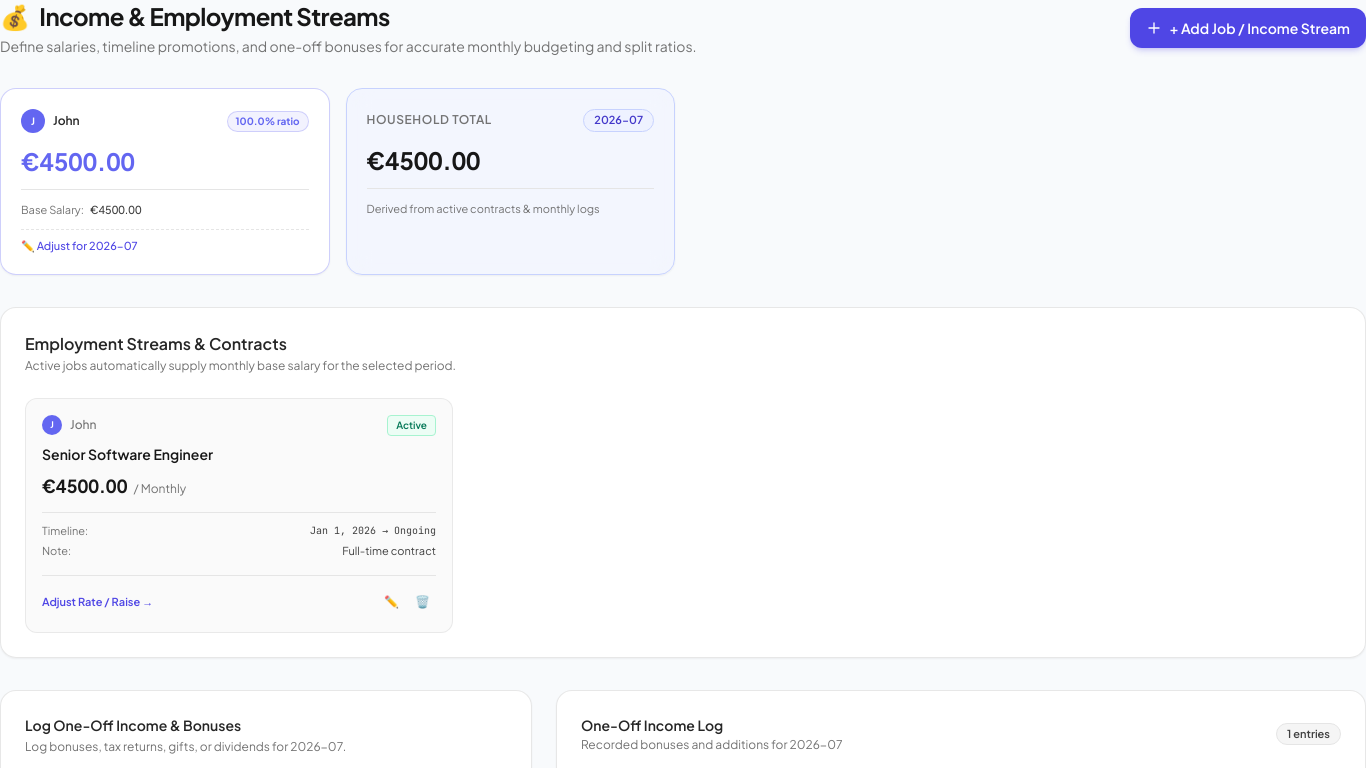
IncomeTab.svelte — Income Ledger & Category Management › renders jobs list and allows opening add job modal
Expected: the heading "Senior Software Engineer" is shown, x1=42 y1=445 x2=213 y2=463
Expected: the text "Full-time contract" is shown, x1=342 y1=543 x2=436 y2=559
Click the button with id "btn-add-job-top" at coordinates (1248, 28), box x1=1130 y1=8 x2=1365 y2=48
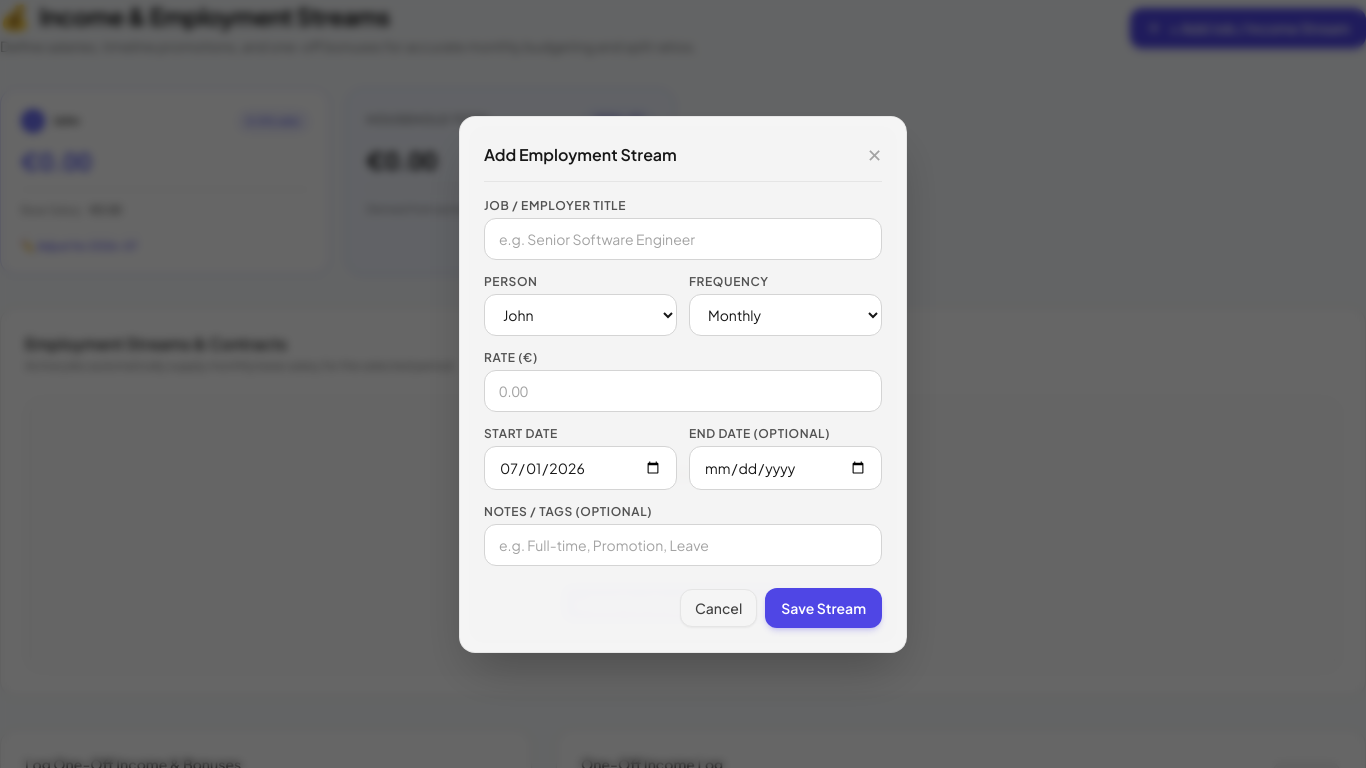
Expected: the heading "Add Employment Stream" is shown, x1=484 y1=142 x2=677 y2=166
